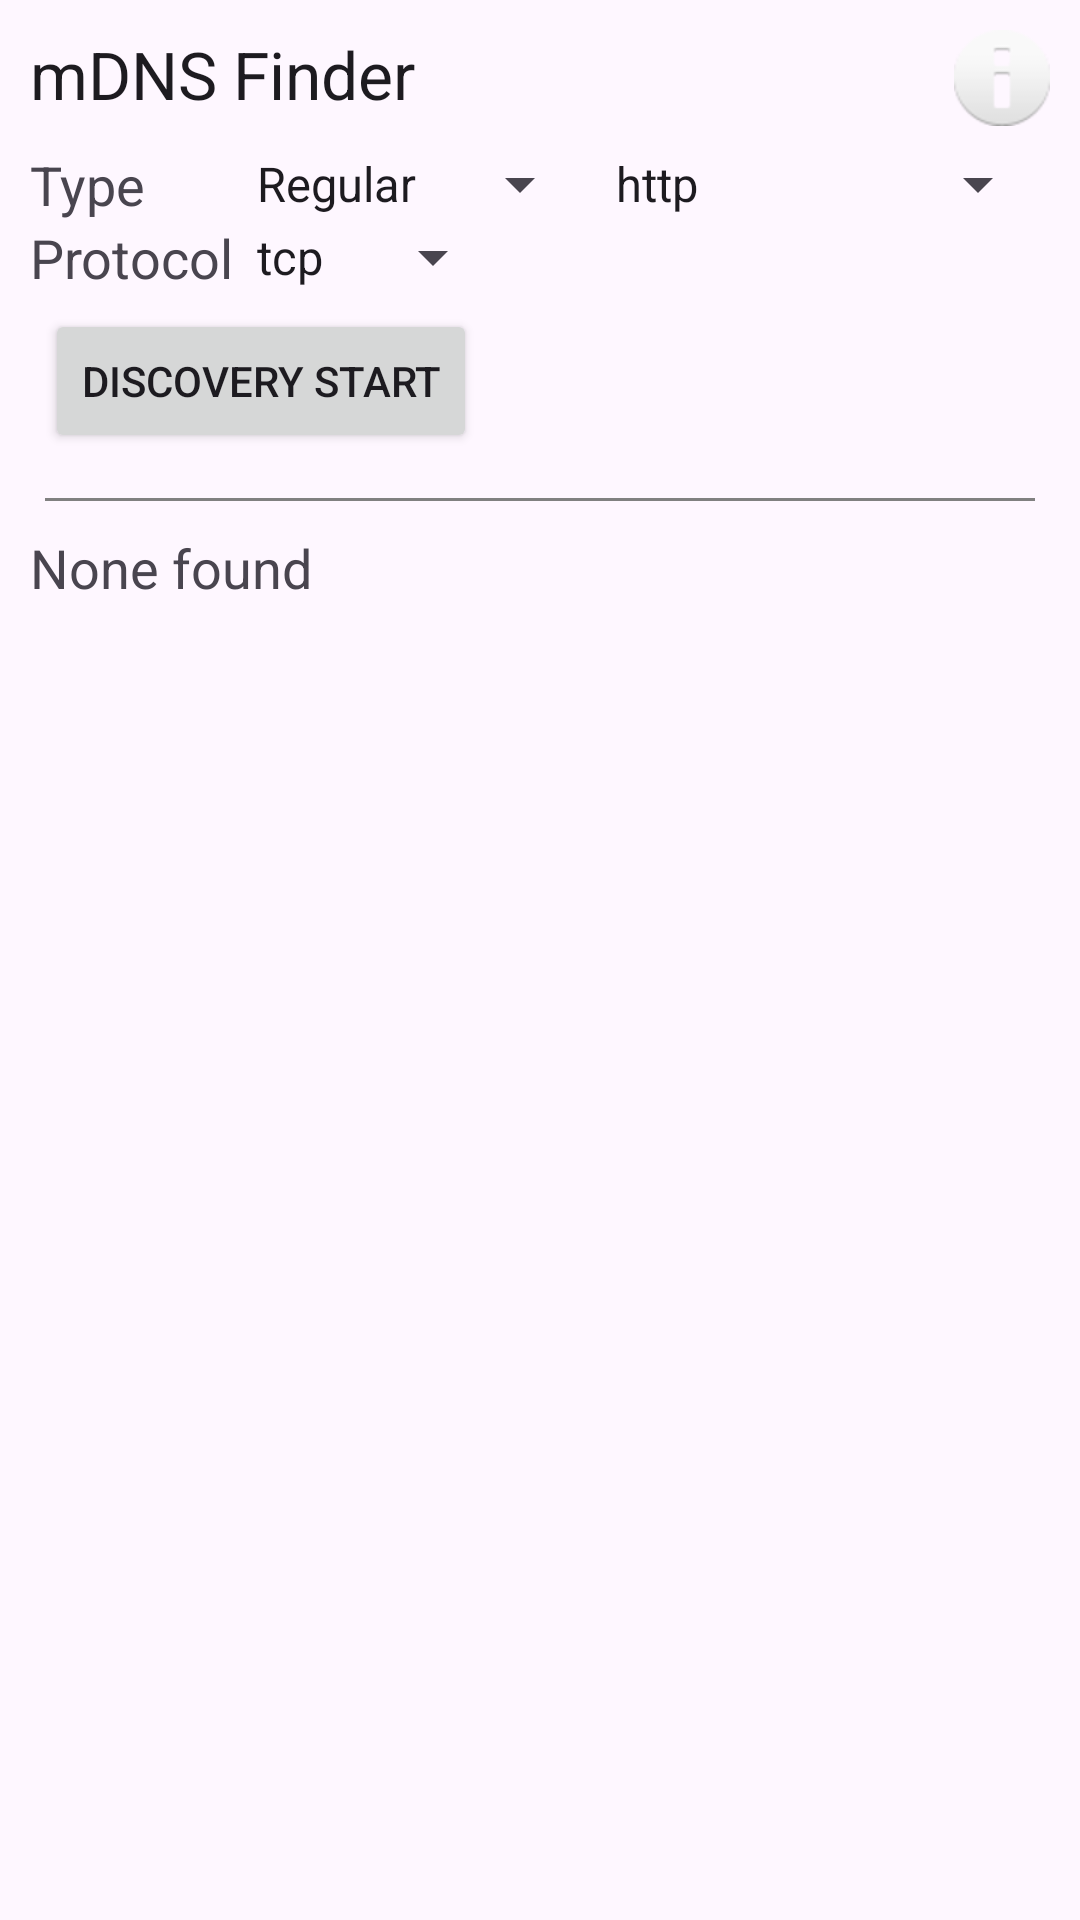

Where icons sit on this 1080*1920 app screen, as BBox(x1, y1, x2, y2):
info: BBox(954, 48, 1050, 126)
